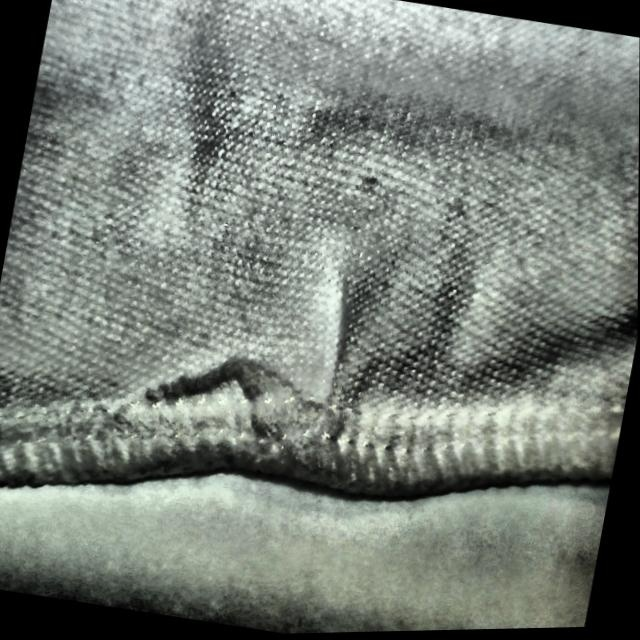seam: (130, 254, 402, 505)
